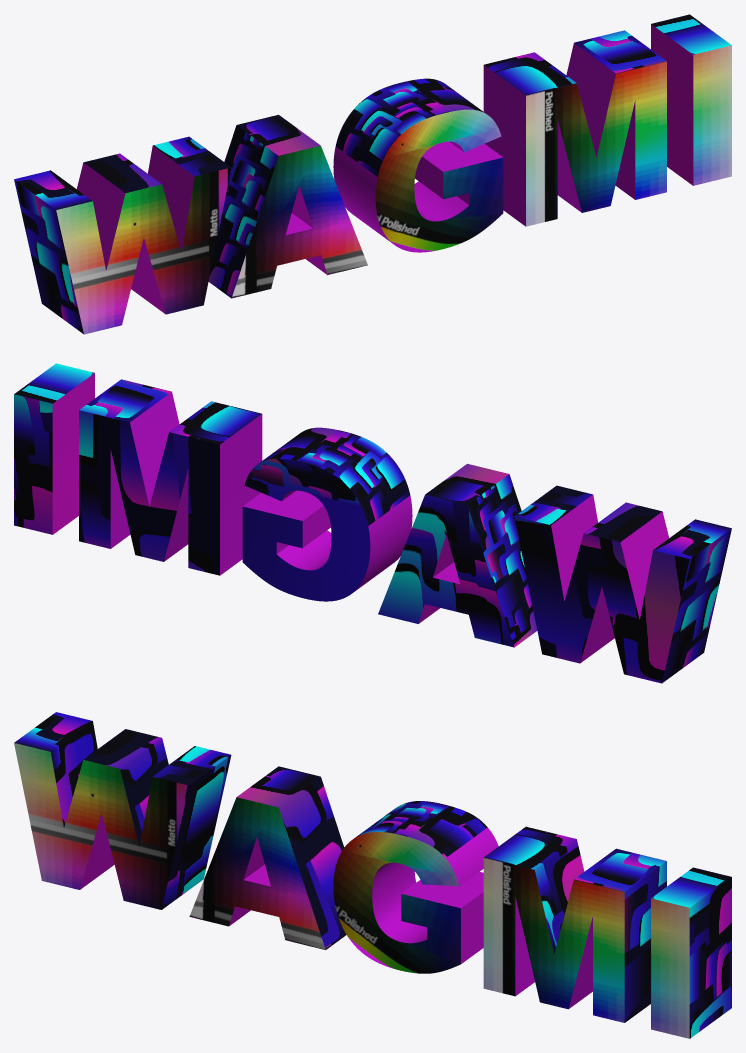
Rendered from wagmi_sml.fbx.
3 views of the same model, one above another, from view 1: azimuth 30°, elevation 25°; view 2: azimuth 150°, elevation 25°; view 3: azimuth 330°, elevation 25° (orthographic).
Visible parts, largest first — view 1: wagmi.001; view 2: wagmi.001; view 3: wagmi.001.
Part boxes in pixels (x1,y1,x2,y2): wagmi.001: (14,14,731,334); wagmi.001: (14,363,731,683); wagmi.001: (14,712,731,1038).
Size of the model in its own units: 278 by 53.25 by 30.
